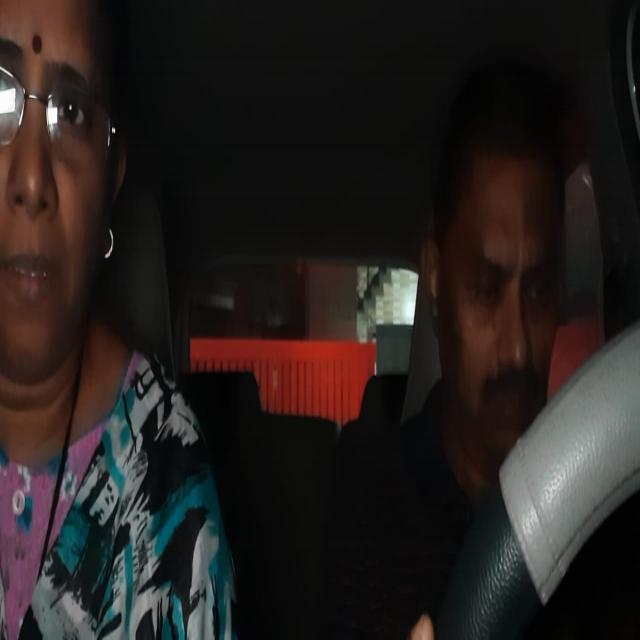person: (415, 58, 587, 468), (1, 0, 129, 411)
